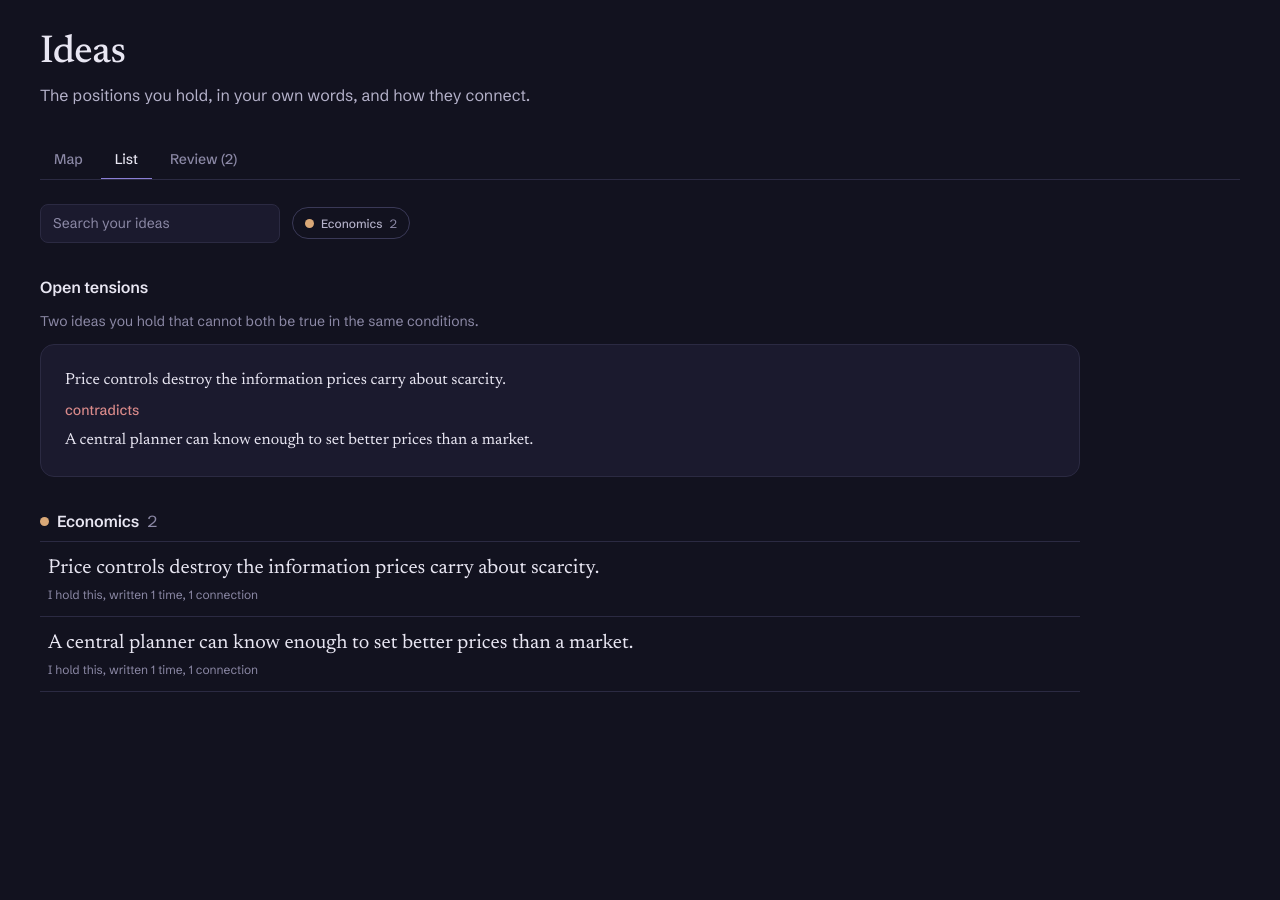
Test: Ideas screen › filters by area from the chips
The image size is (1280, 900).
Click the button "Economics 2": (351, 223) x1=292 y1=207 x2=410 y2=239
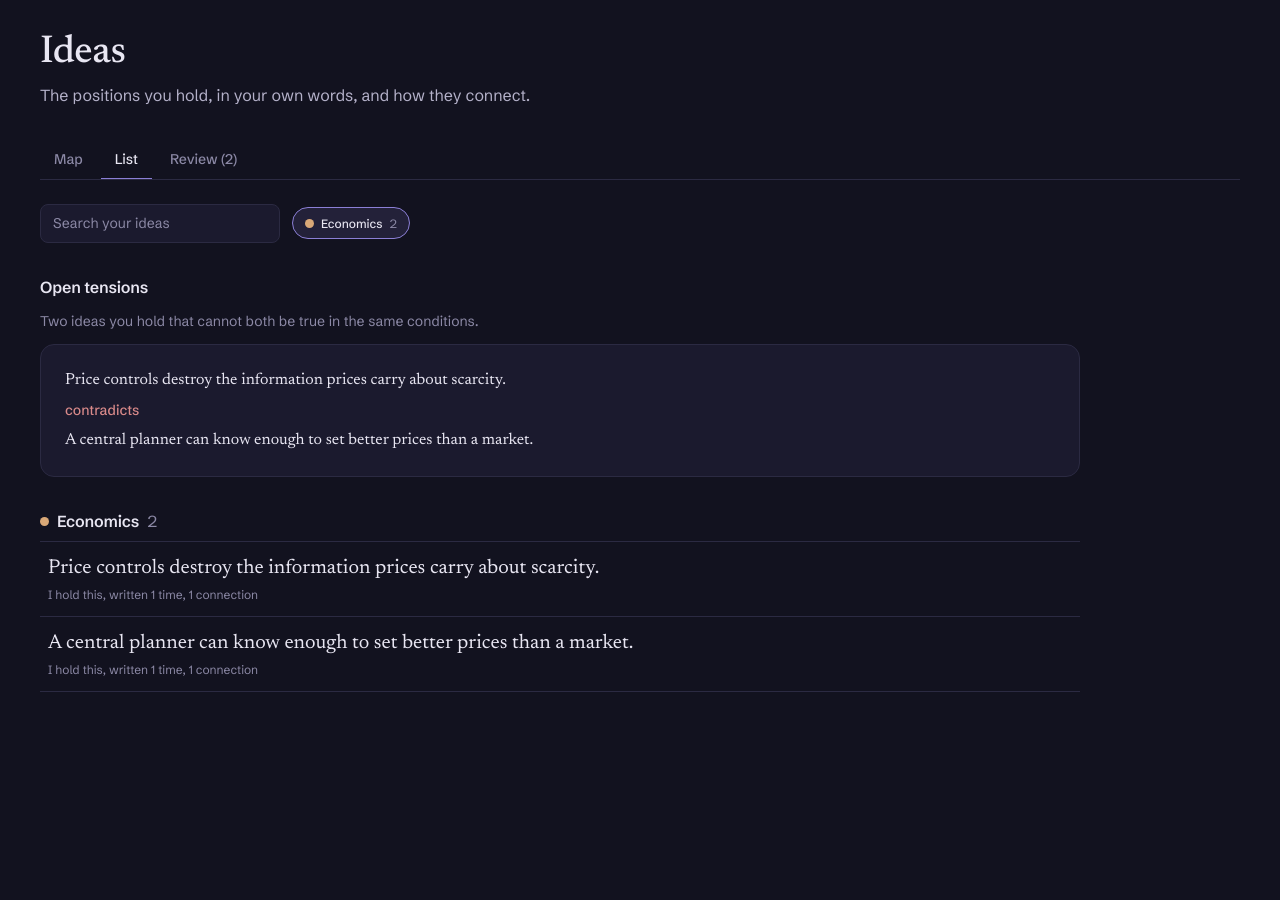
Check: the button "Economics 2" is pressed, box x1=292 y1=207 x2=410 y2=239
In the search field labelled "Search your ideas": (160, 223) x1=40 y1=204 x2=280 y2=243, type "planner"
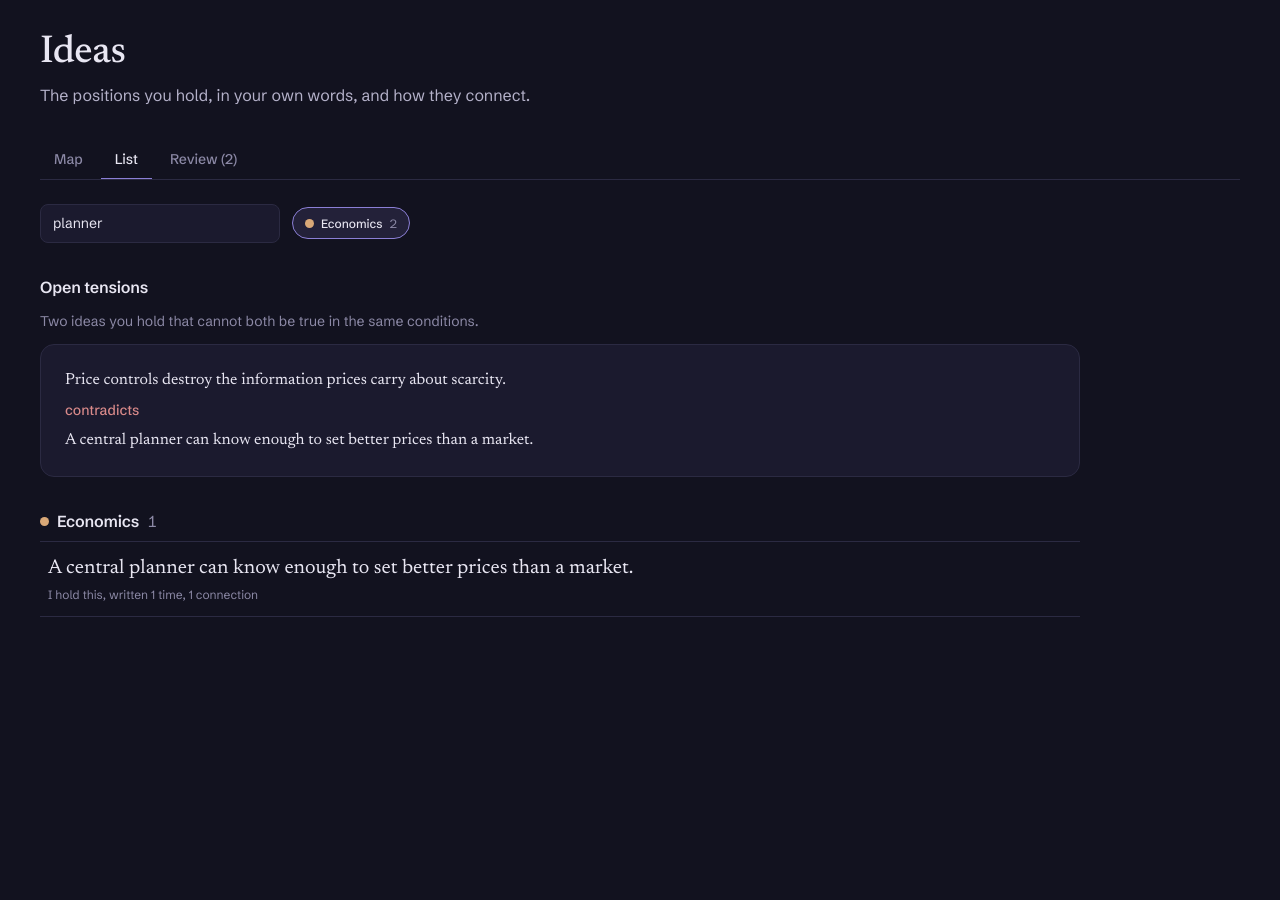
Check: the number of list items is 1, box x1=40 y1=542 x2=1080 y2=617
